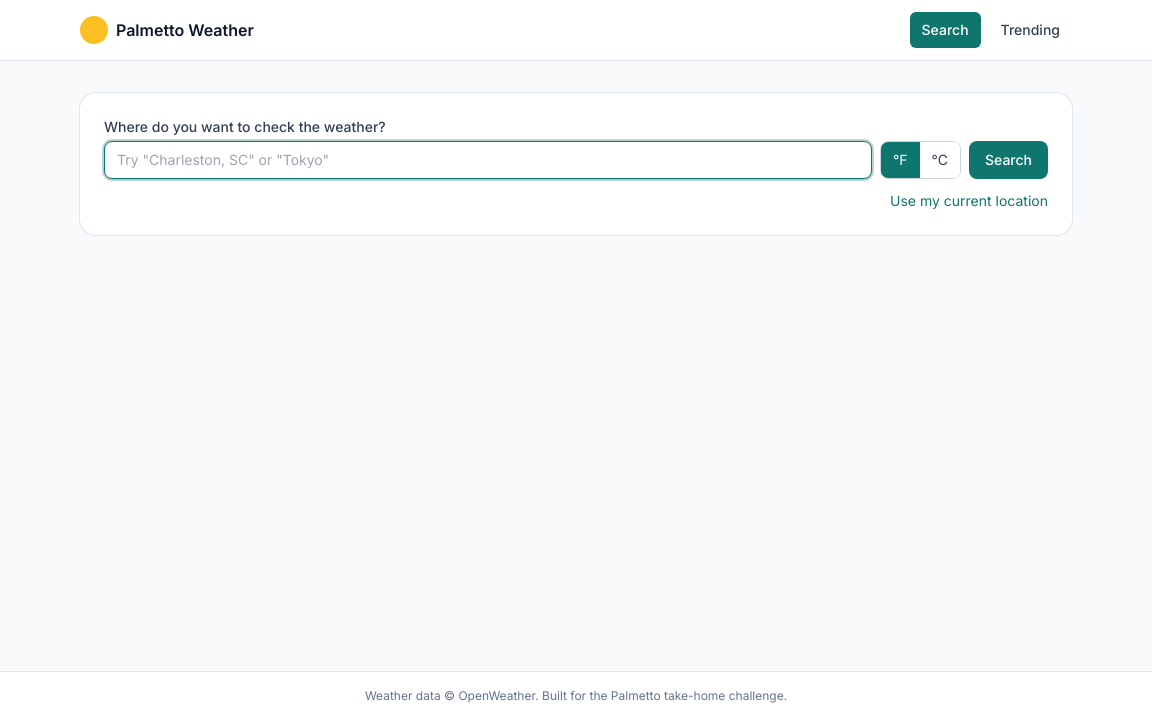
it: Weather search › lets a visitor look up a city and see the current temperature
Type "Charleston" into the field with id "locationQuery".
click(488, 160); type("Charleston")  # box [104,141,872,179]
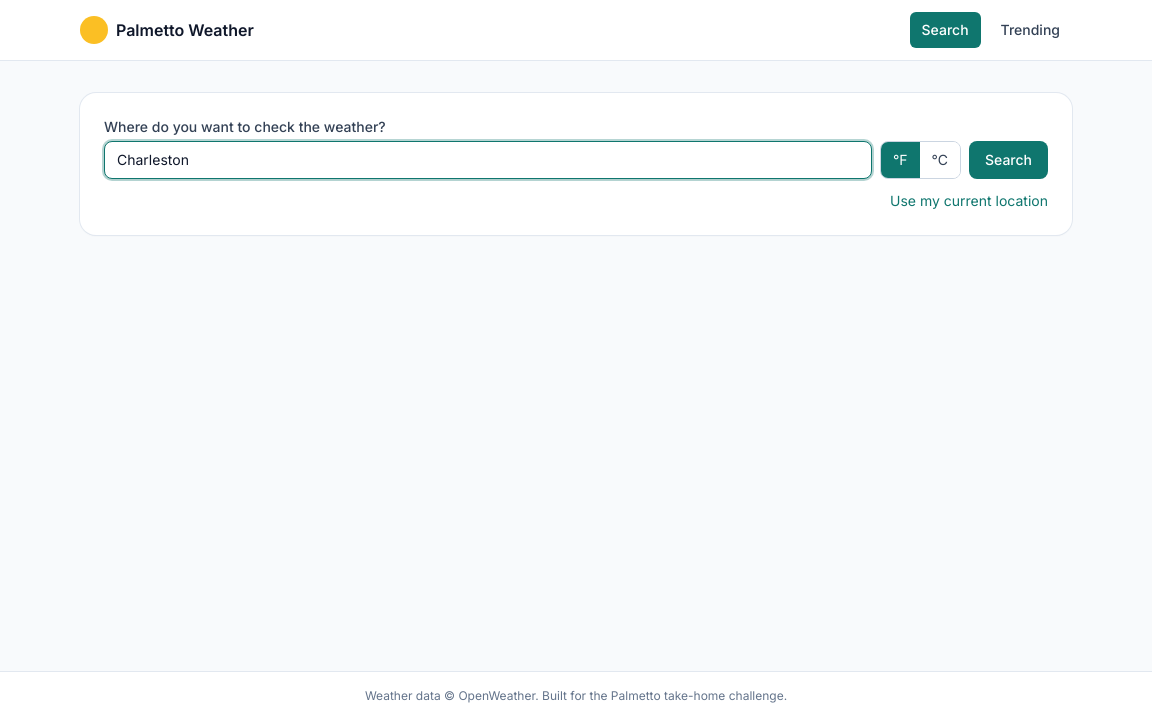
Click the button "Search".
click(1009, 160)  # box [969,141,1048,179]
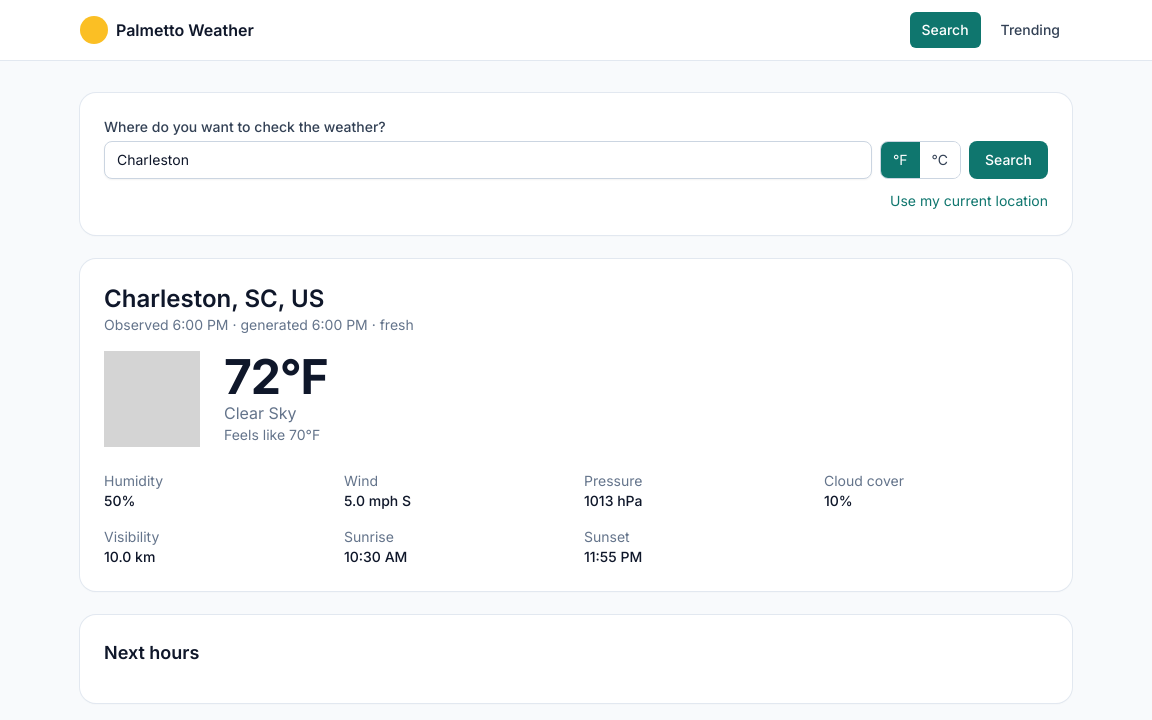
Expected: the heading "Charleston, SC, US" is shown, [104,284,324,313]
Expected: the text "72°F" is shown, [224,353,328,401]
Expected: the text "clear sky" is shown, [224,403,297,423]
